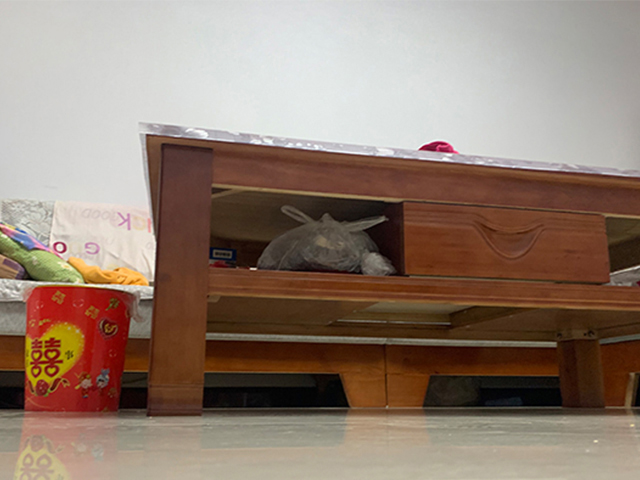sofa: (2, 197, 150, 375)
table: (144, 133, 639, 417)
trashcan: (21, 282, 136, 413)
